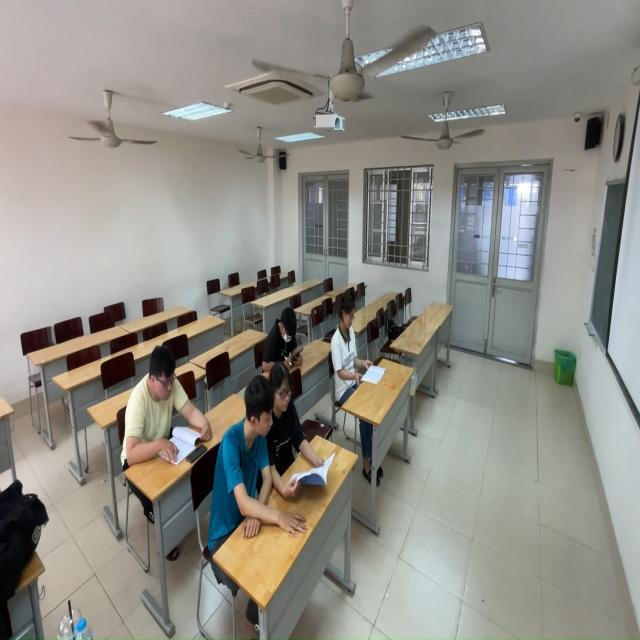read: (215, 370, 283, 554), (119, 342, 211, 473), (268, 355, 324, 489), (345, 306, 396, 401), (264, 306, 306, 368)
